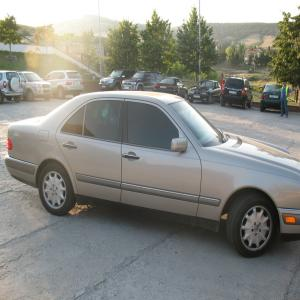Vehicle-registration-plate: (12, 93, 20, 97), (74, 83, 80, 85), (125, 88, 131, 90), (195, 96, 201, 98), (161, 87, 167, 88), (103, 87, 107, 88)
